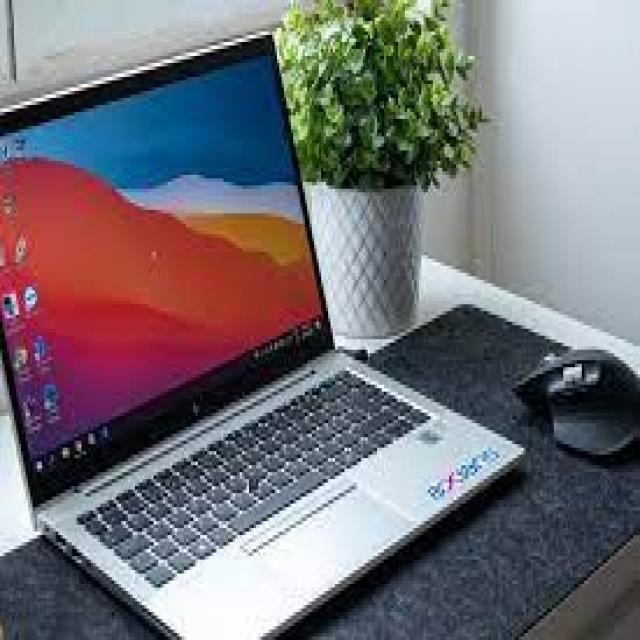others: (2, 21, 533, 633)
